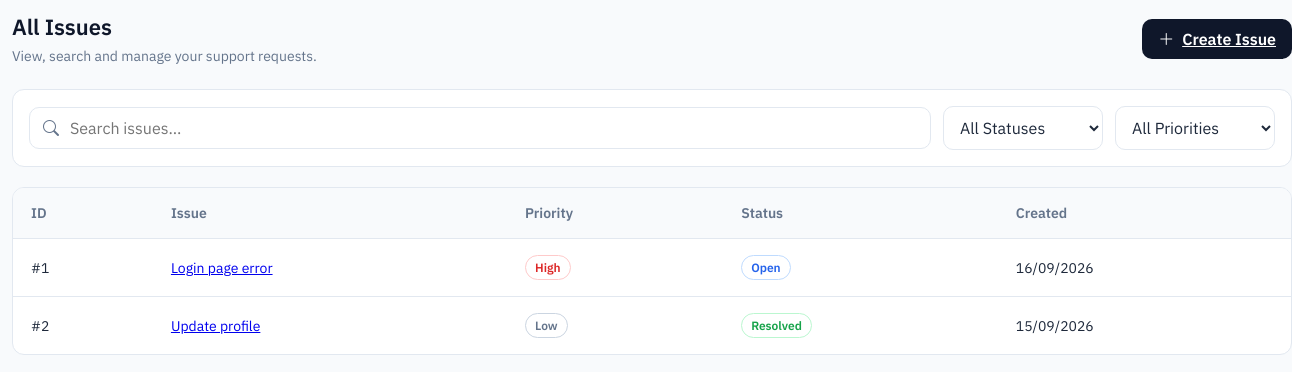
Scenario: Issues page › filters issues by status
The image size is (1292, 372).
Expected: the link "Login page error" is shown, [171,258,272,276]
Select "Resolved" in the 1st dropdown showing "All Statuses". click: (1023, 128)
box: [943,106,1103,150]
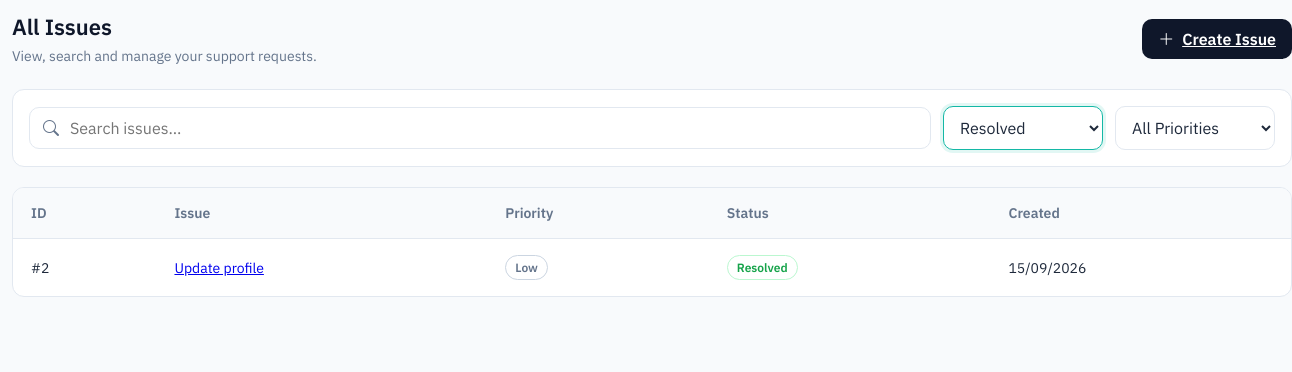
Expected: the link "Update profile" is shown, [174,258,264,276]
Now the link "Login page error" is gone
